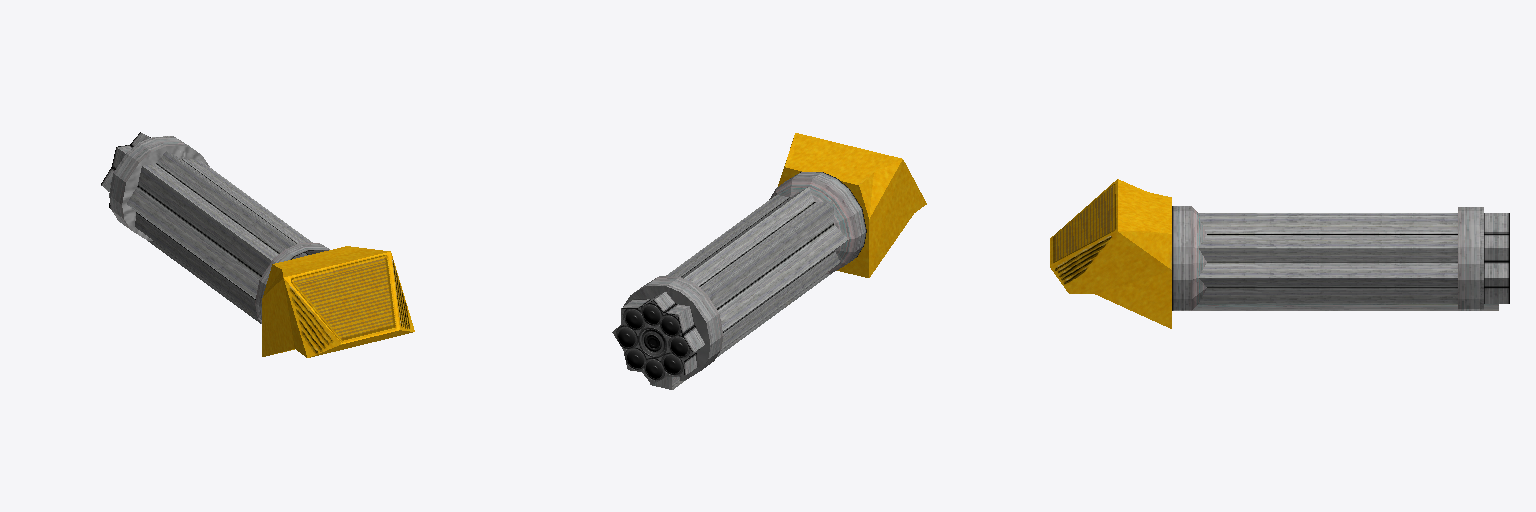
The picture shows the model from 3 angles: view 1: azimuth 30°, elevation 25°; view 2: azimuth 150°, elevation 25°; view 3: azimuth 270°, elevation 25°; orthographic projection.
Parts seen in each view (by area): view 1: chain_gun; view 2: chain_gun; view 3: chain_gun.
Boxes of the visible parts, x1=… form: chain_gun: x1=101, y1=132, x2=414, y2=357; chain_gun: x1=612, y1=133, x2=926, y2=389; chain_gun: x1=1050, y1=179, x2=1509, y2=328.
Bounding box in the file's own units: 1.48 × 1.34 × 5.5.
1 materials, 1 textured.